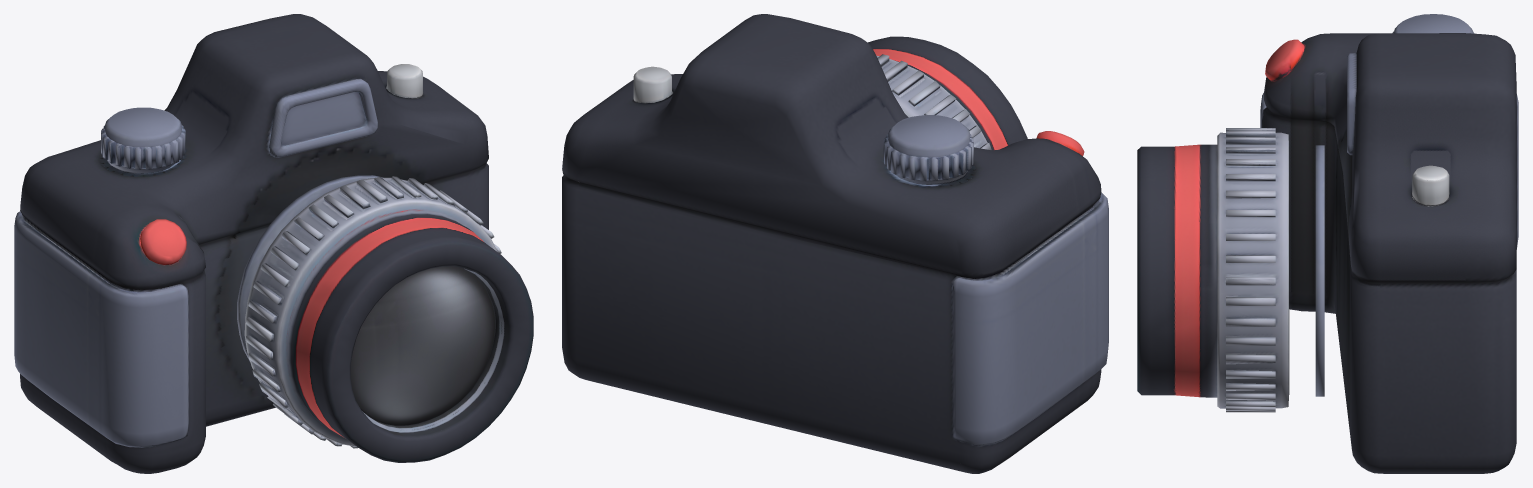
Rendered from camera 3d model.glb.
3 views of the same model, side by side, from view 1: azimuth 30°, elevation 25°; view 2: azimuth 150°, elevation 25°; view 3: azimuth 270°, elevation 25° (orthographic). The views are drawn at different scales.
Parts seen in each view (by area): view 1: tripo_node_e2450771-5be7-444b-92a2-bbe04fc51710; view 2: tripo_node_e2450771-5be7-444b-92a2-bbe04fc51710; view 3: tripo_node_e2450771-5be7-444b-92a2-bbe04fc51710.
Part boxes in pixels (left/top/right/bottom): tripo_node_e2450771-5be7-444b-92a2-bbe04fc51710: left=14, top=14, right=533, bottom=473; tripo_node_e2450771-5be7-444b-92a2-bbe04fc51710: left=562, top=14, right=1108, bottom=473; tripo_node_e2450771-5be7-444b-92a2-bbe04fc51710: left=1137, top=14, right=1518, bottom=473.
Bounding box in the file's own units: 0.998 × 0.7559 × 0.7637.
Materials: 1 (1 with a texture image).
